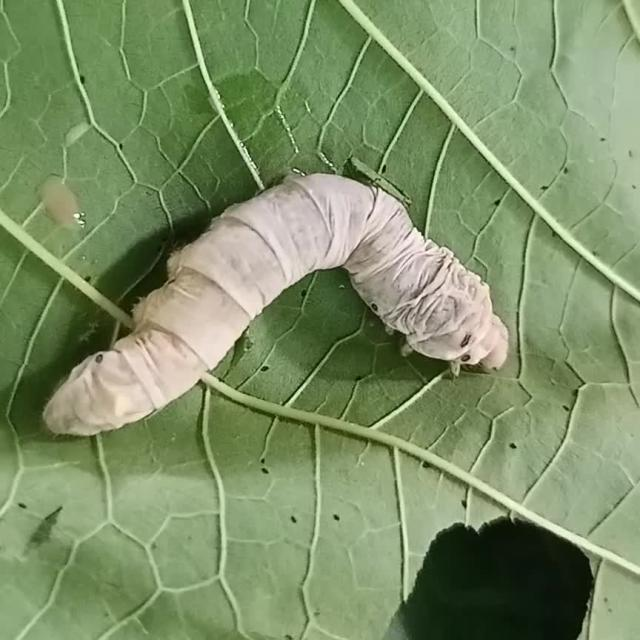Grasserie: (36, 167, 515, 448)
